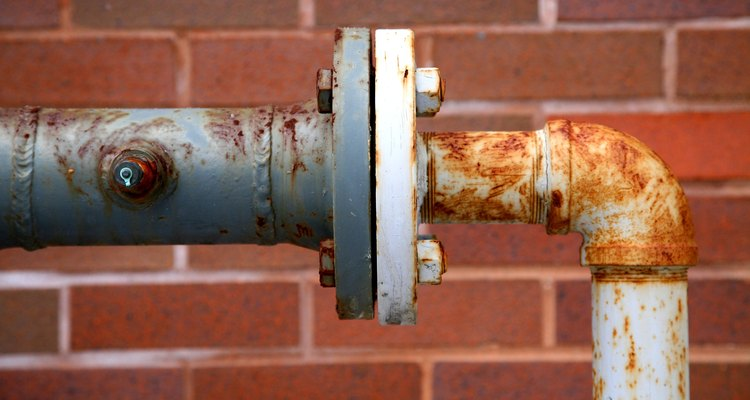Moderate: (424, 117, 711, 274), (8, 93, 328, 198)
